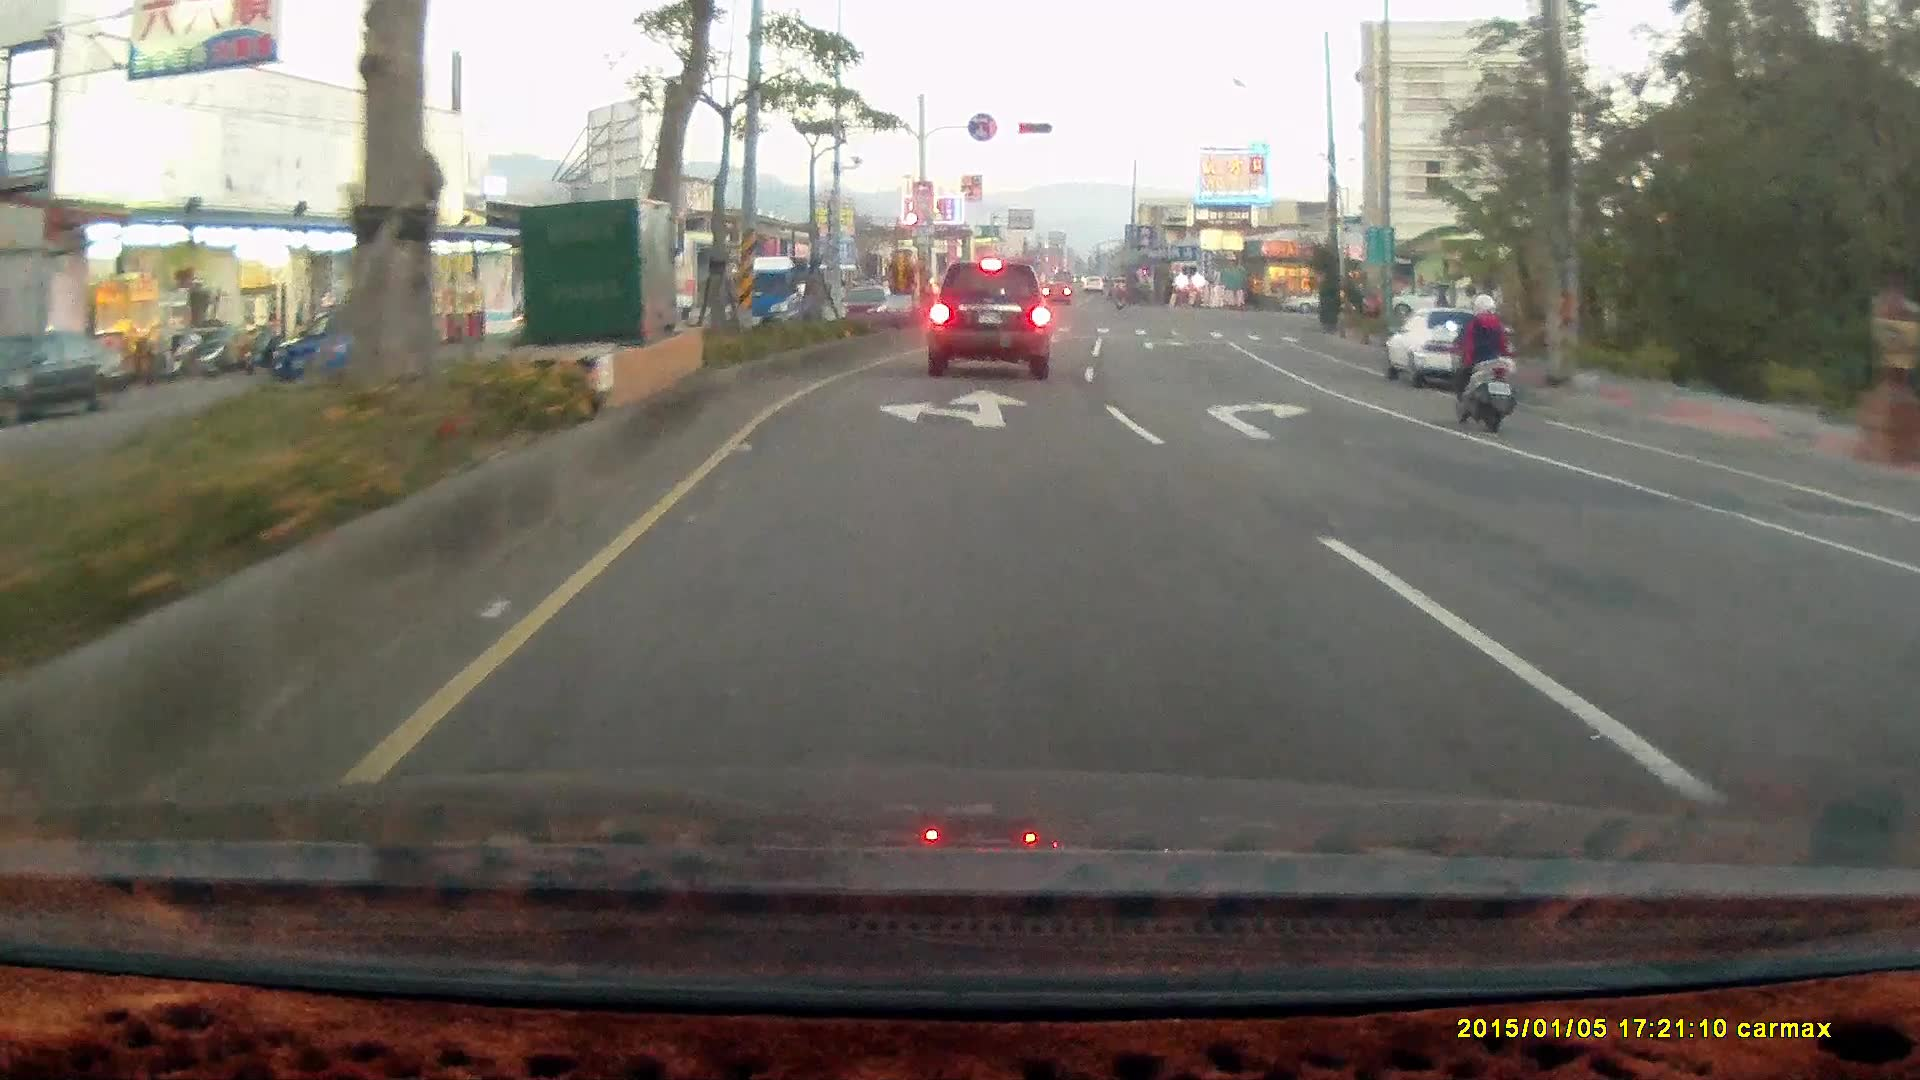rider: (1442, 290, 1519, 431)
vehicle: (925, 260, 1050, 379), (1381, 305, 1519, 390), (1388, 307, 1528, 387), (274, 307, 417, 382), (1896, 493, 1920, 836), (1883, 528, 1920, 690), (1385, 279, 1477, 319), (1279, 286, 1345, 315)
